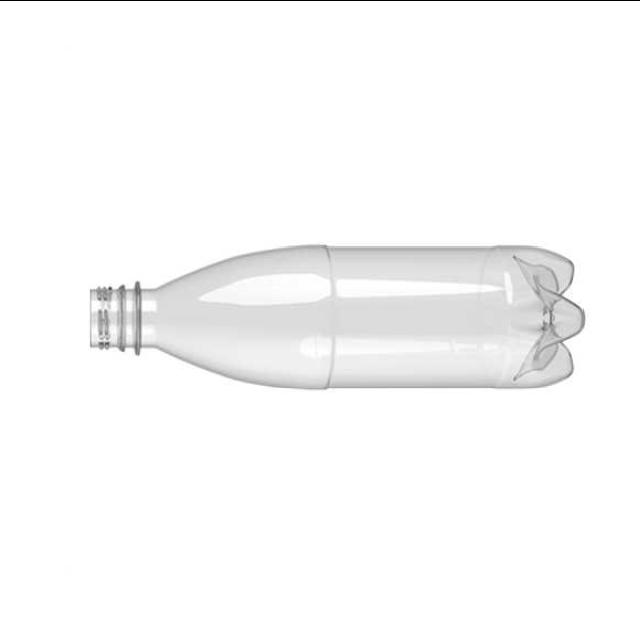bottle: (90, 246, 583, 386)
